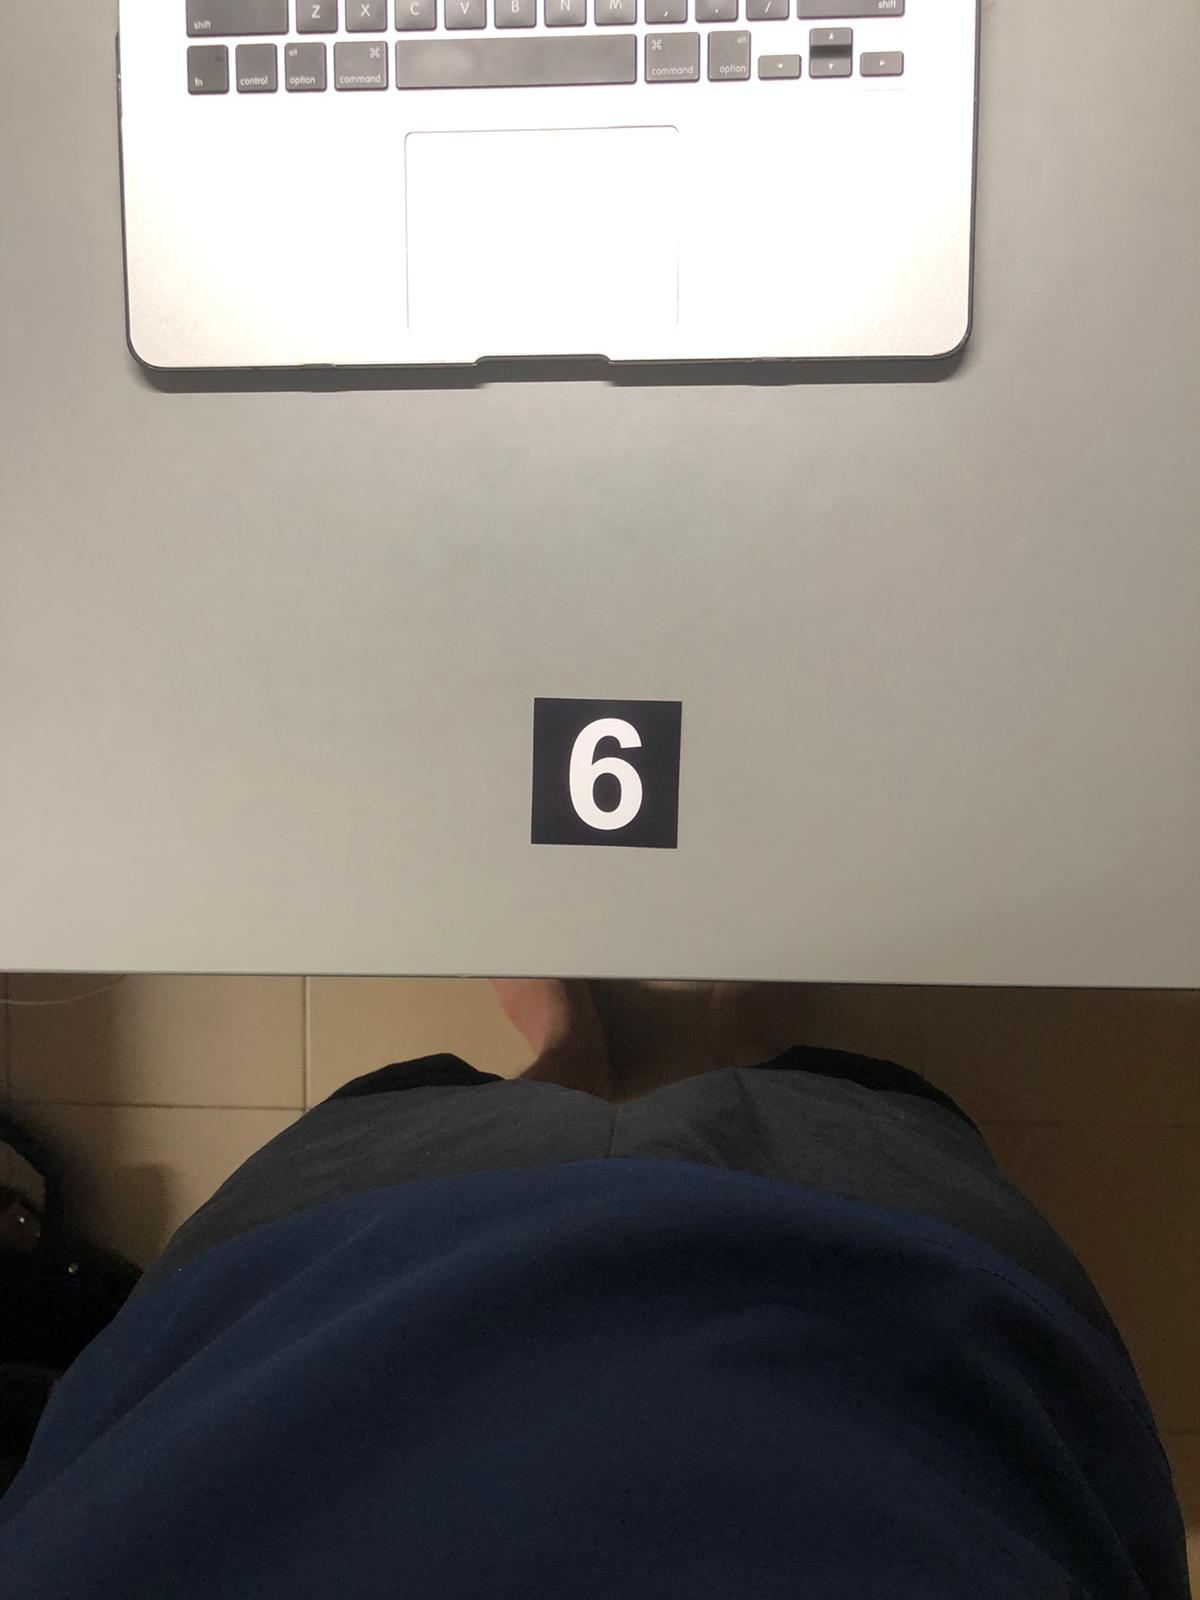Number 6: (534, 695, 677, 847)
